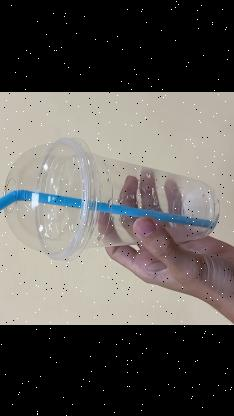Others: (0, 134, 221, 264)
